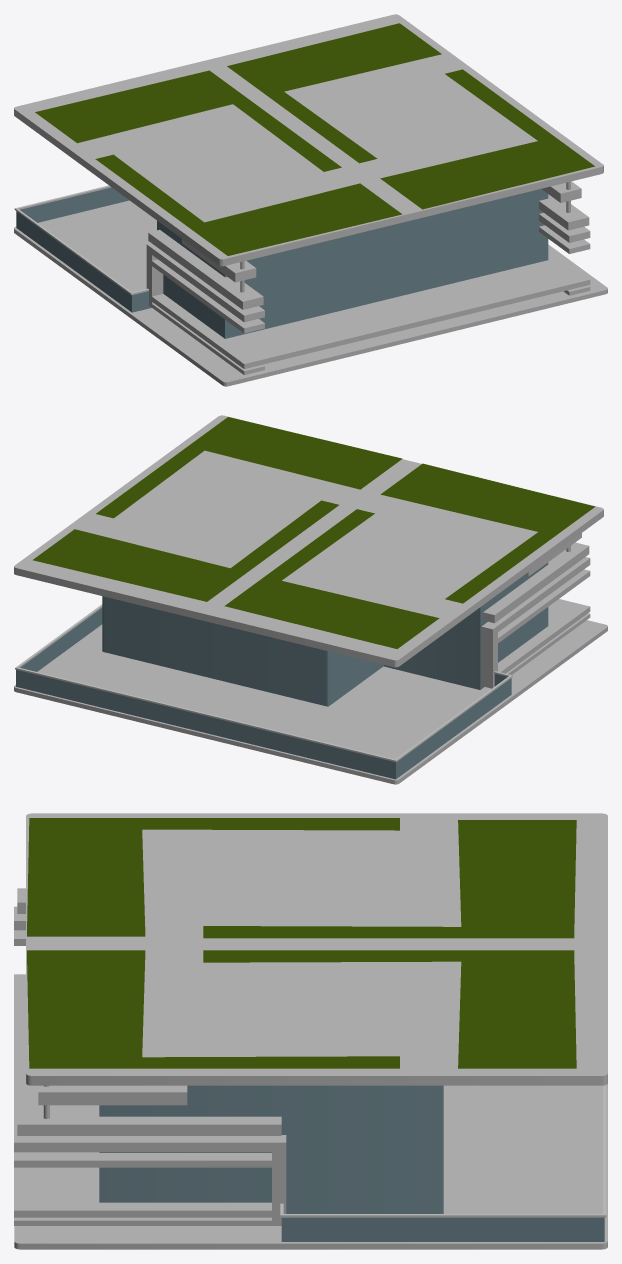
Rendered from SM_B_Mate_Roof.fbx.
The picture shows the model from 3 angles, top to bottom: view 1: azimuth 30°, elevation 25°; view 2: azimuth 150°, elevation 25°; view 3: azimuth 270°, elevation 25°; orthographic projection. The views are drawn at different scales.
Visible parts, largest first — view 1: roof; view 2: roof; view 3: roof.
Part boxes in pixels (bbox=[...]): roof: bbox=[14, 14, 607, 386]; roof: bbox=[14, 415, 607, 784]; roof: bbox=[14, 813, 607, 1249].
Bounding box in the file's own units: 2101 × 653 × 2010.
